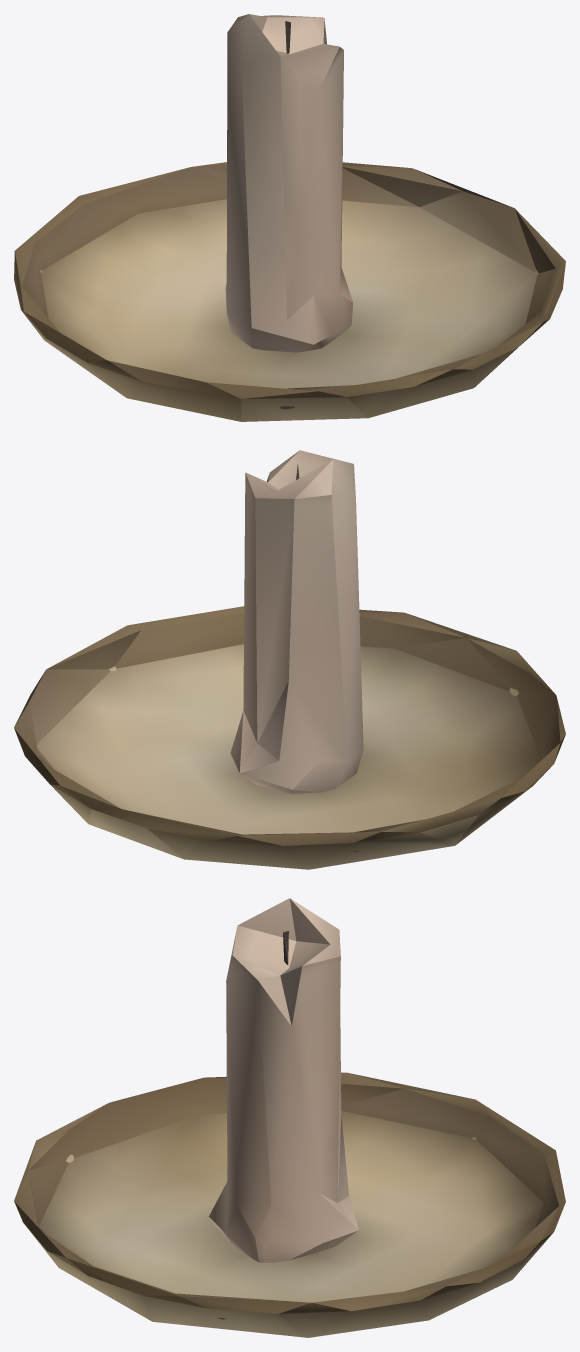
Rendered from candle-dish.lod1.glb.
3 views of the same model, one above another, from view 1: azimuth 30°, elevation 25°; view 2: azimuth 150°, elevation 25°; view 3: azimuth 270°, elevation 25° (orthographic).
Parts seen in each view (by area): view 1: candle-dish; view 2: candle-dish; view 3: candle-dish.
Boxes of the visible parts, x1,y1,x2,y2 form: candle-dish: (14, 14, 565, 421); candle-dish: (14, 450, 565, 869); candle-dish: (14, 898, 565, 1337).
Size of the model in its own units: 0.1045 by 0.0725 by 0.1051.
Materials: 1 (1 with a texture image).
